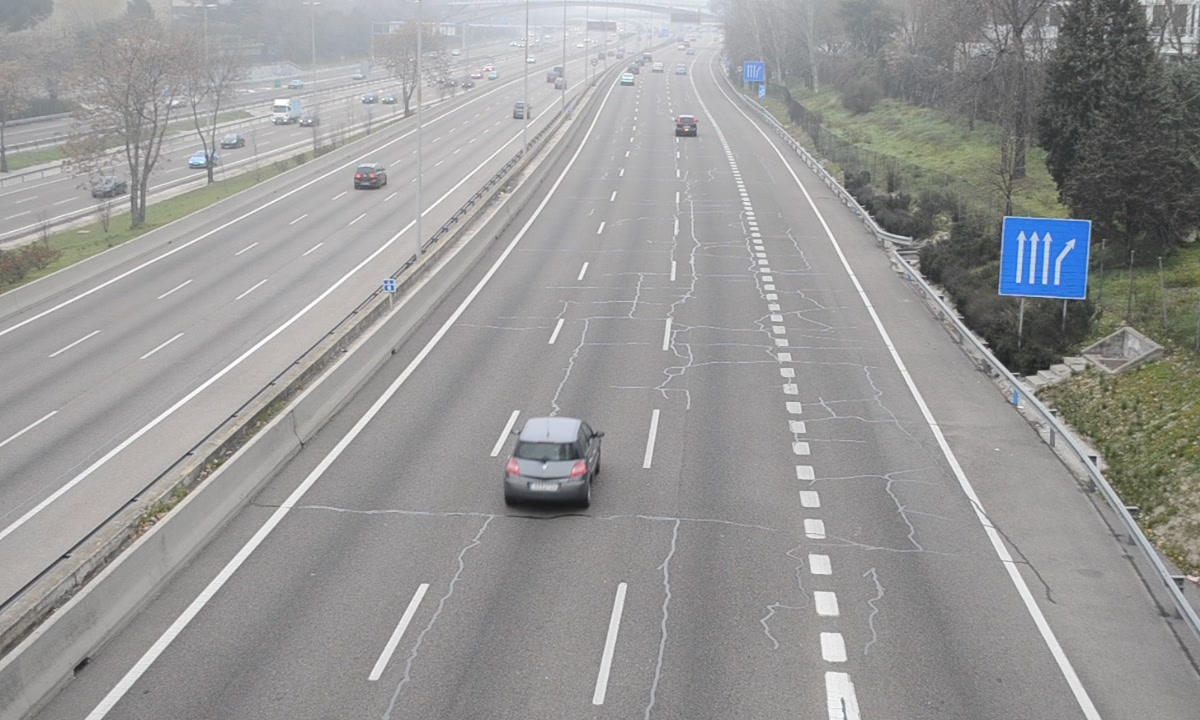car: (506, 417, 598, 508), (674, 114, 698, 139)
